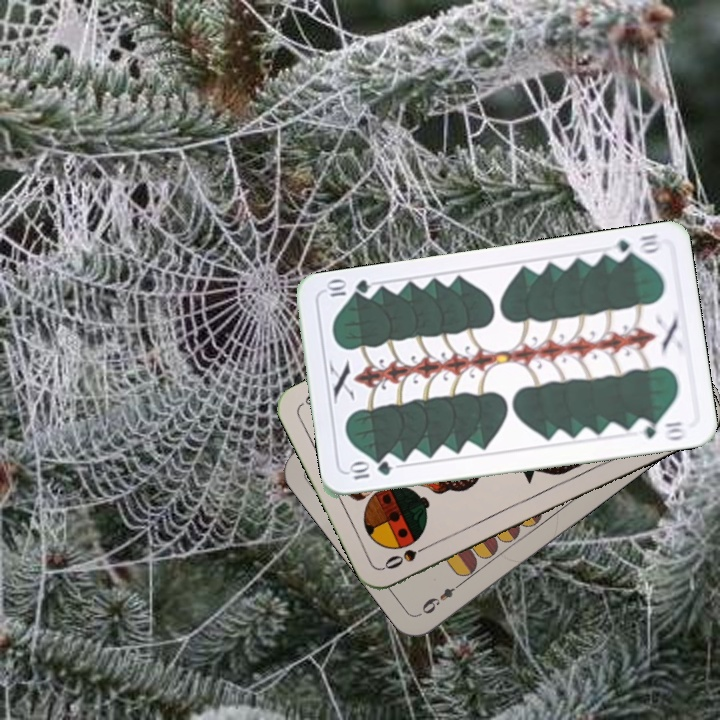E9: (417, 577, 467, 617)
G10: (605, 230, 665, 263), (345, 457, 395, 482)
SO: (380, 539, 436, 572)
